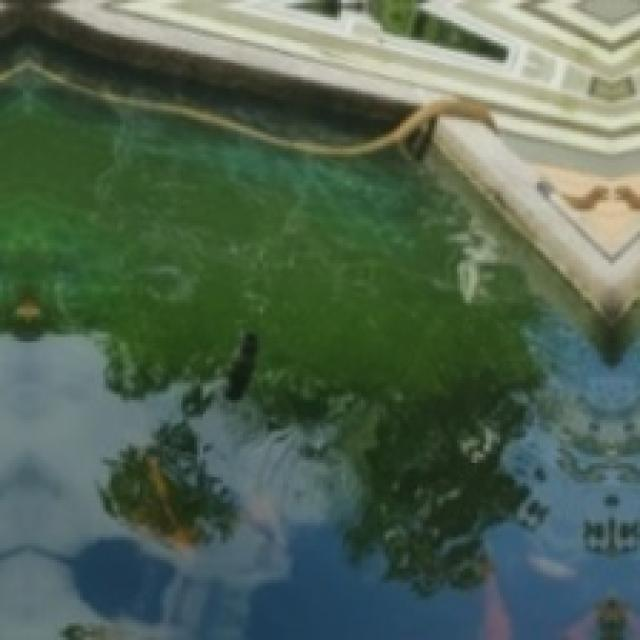king cobra: (0, 60, 494, 154)
